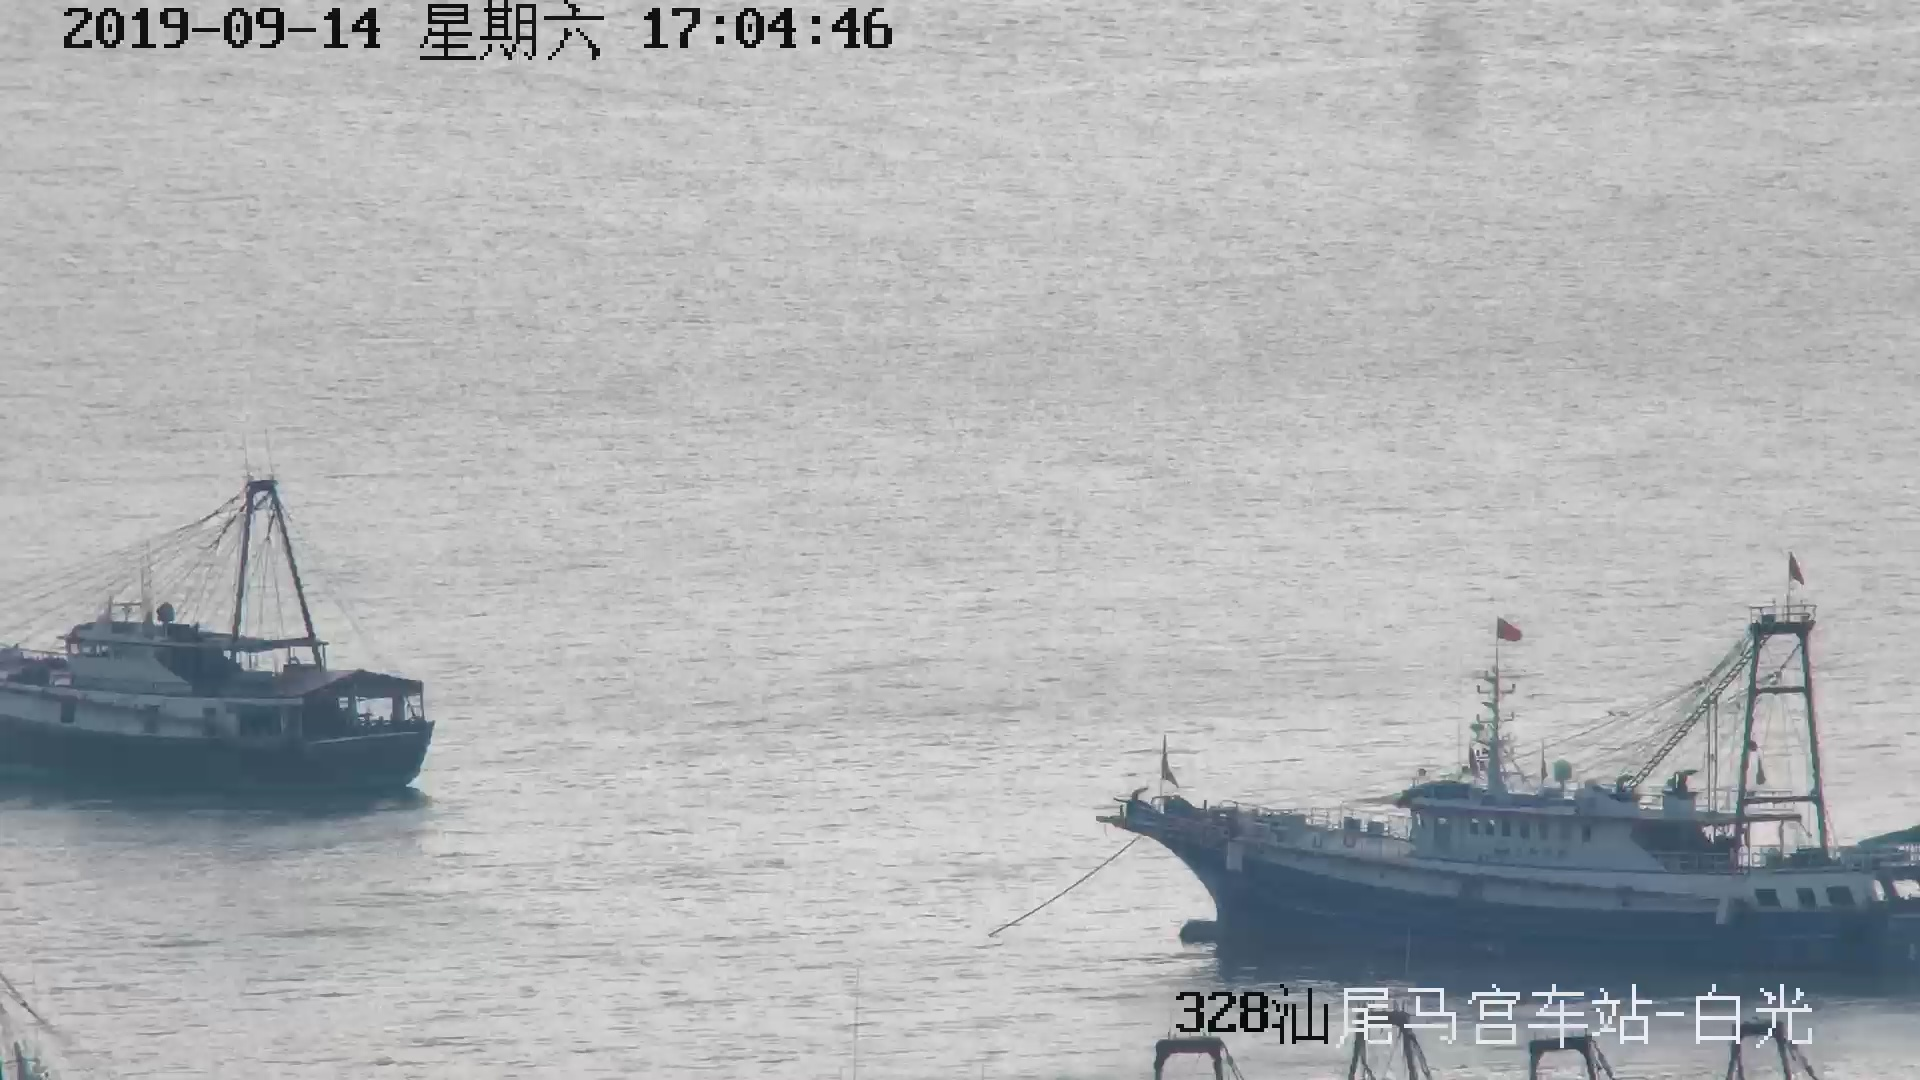ship: (1108, 524, 1920, 989), (1, 473, 434, 818)
